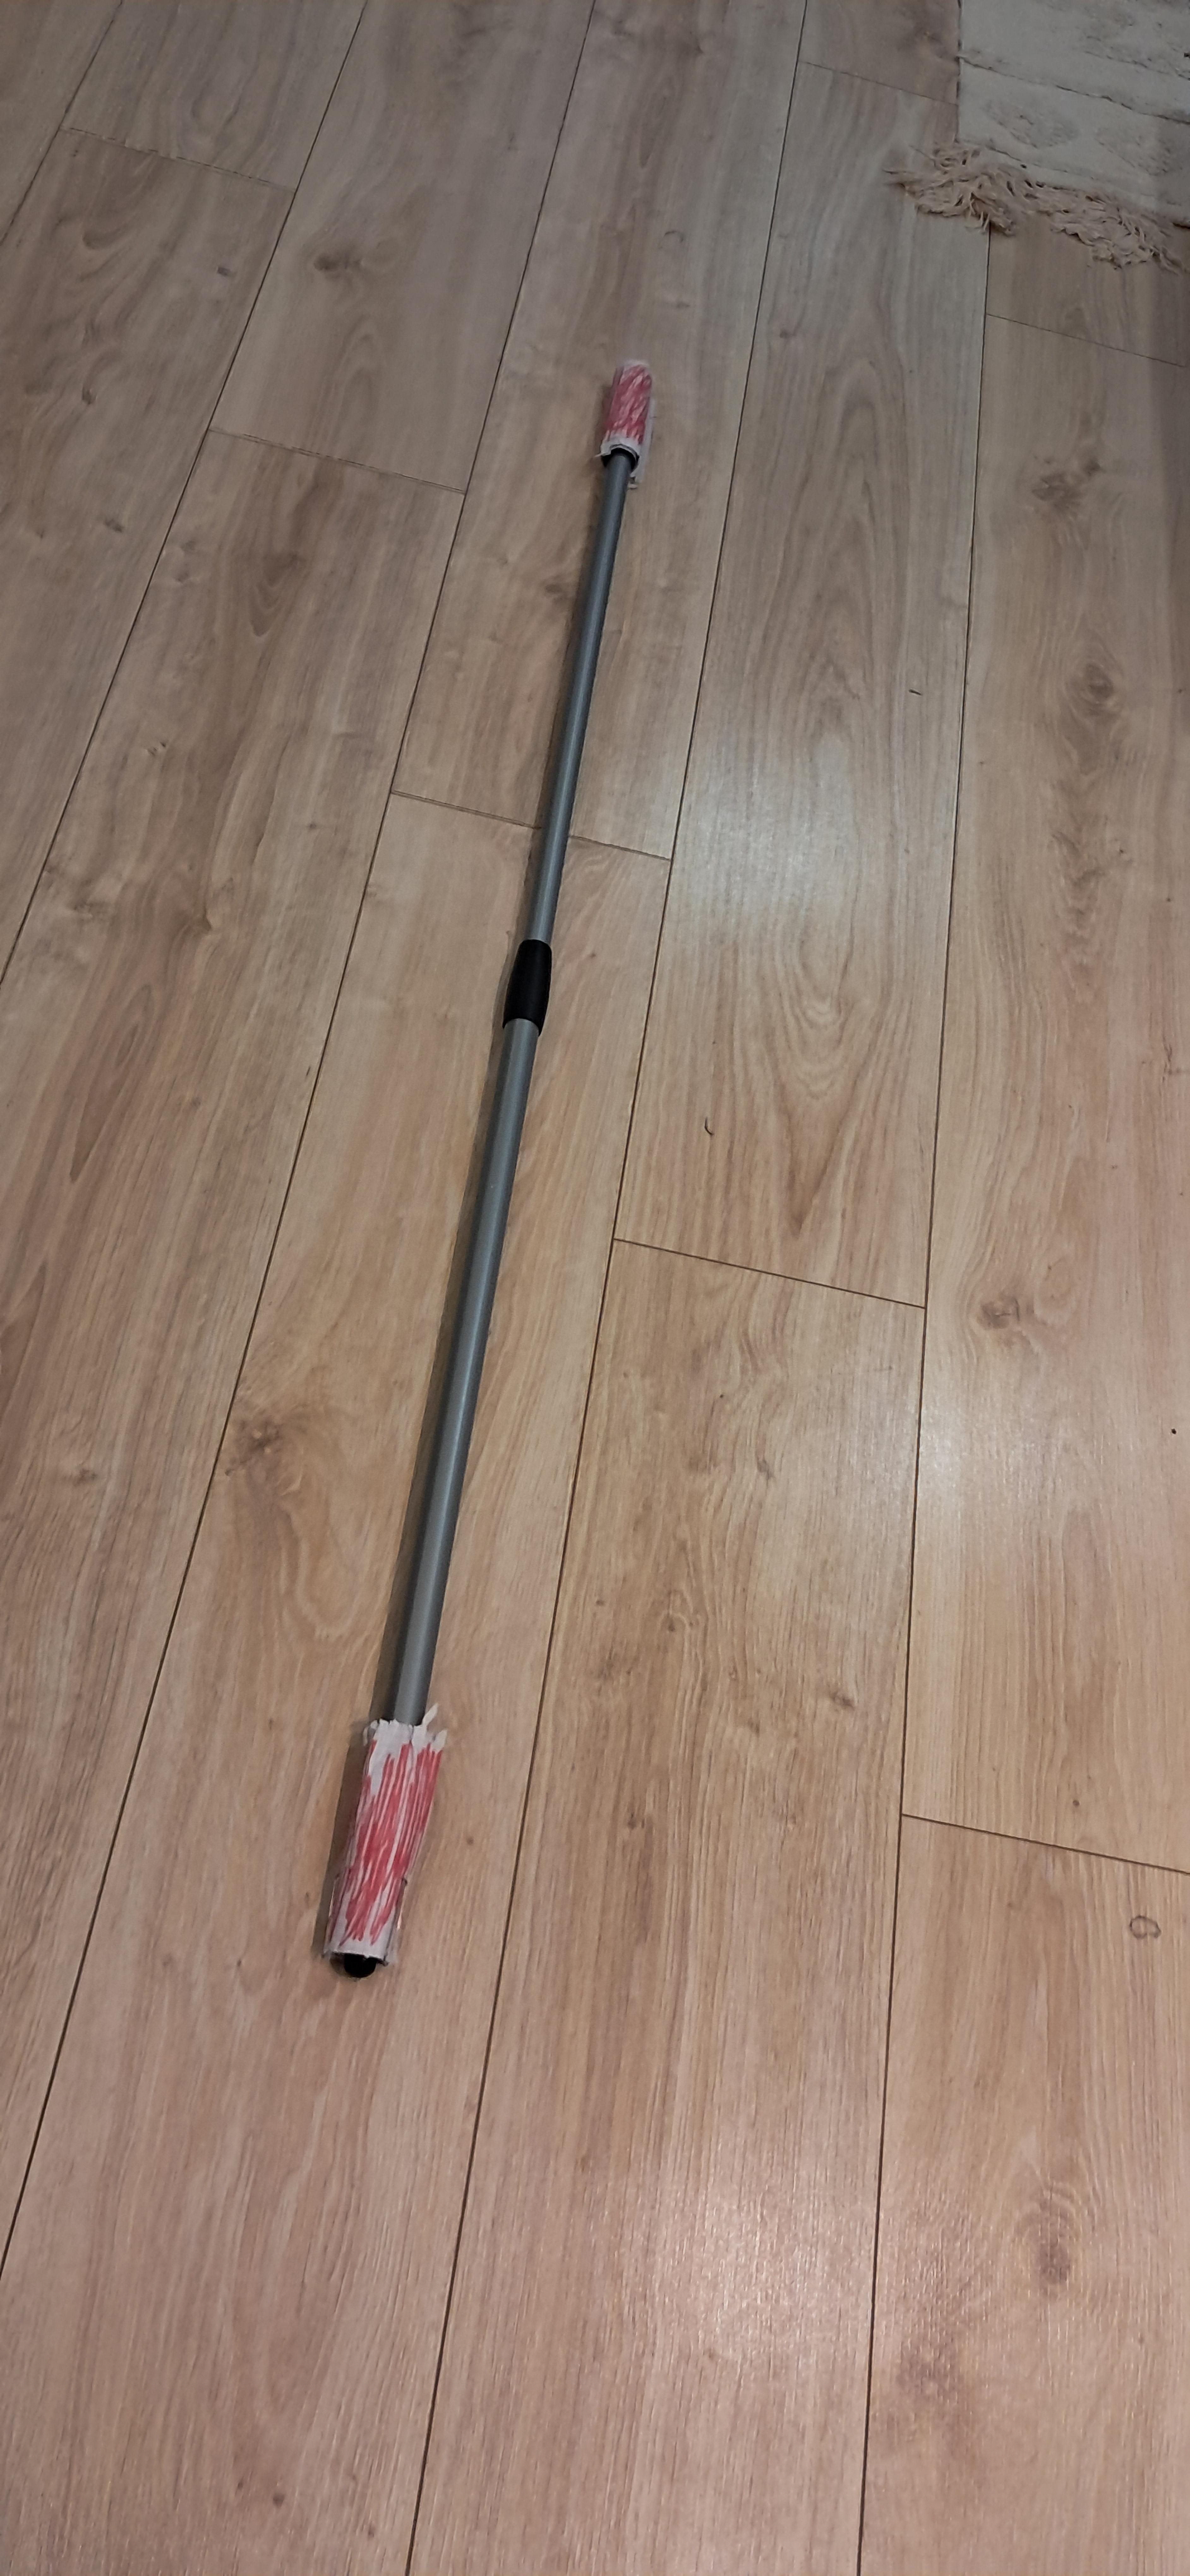broom-handle: (325, 361, 651, 1975)
